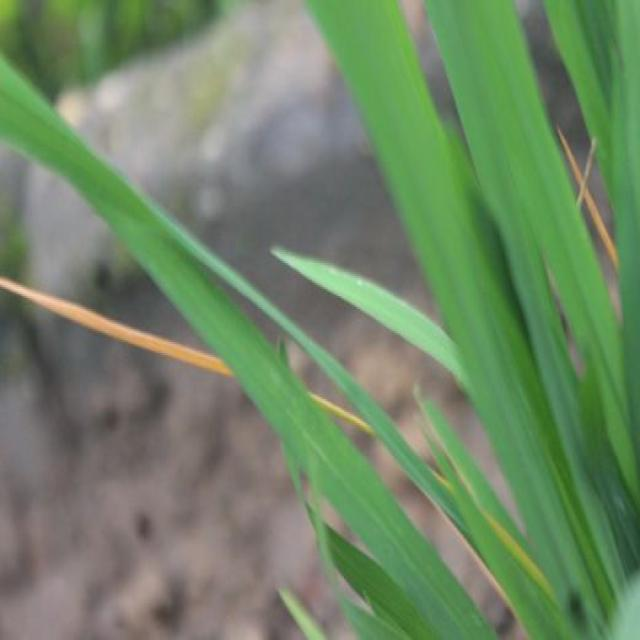Tungro: (0, 259, 225, 400), (560, 118, 622, 268)
